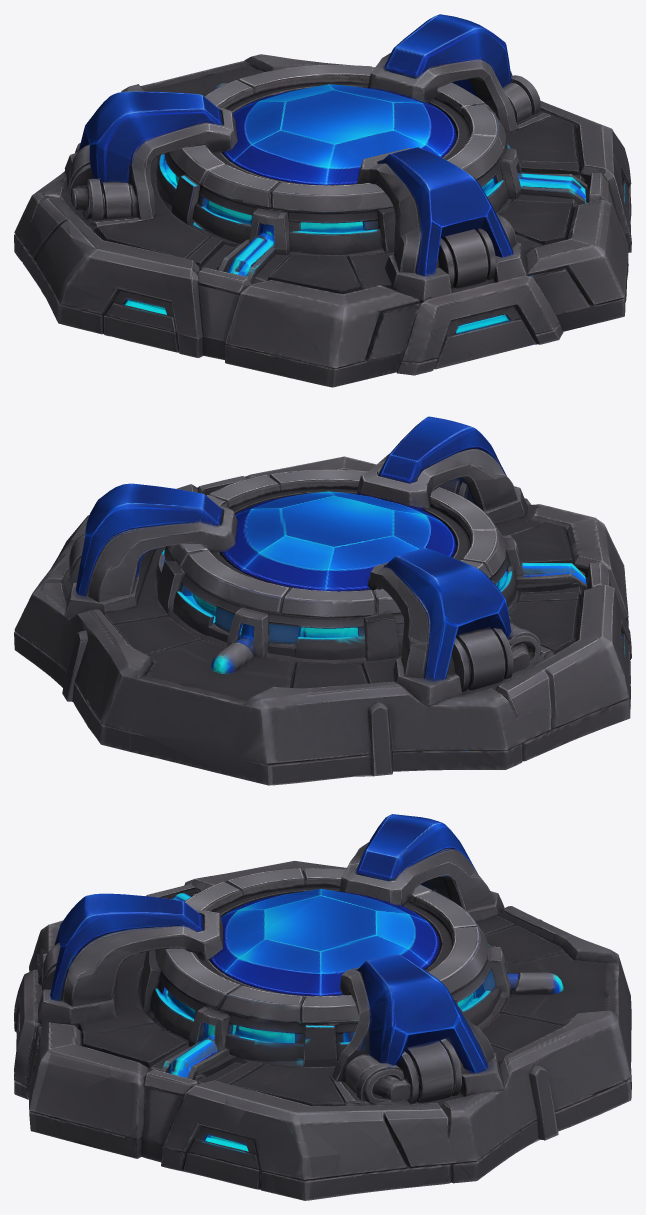
File: blue-inhibitor.glb
3 views of the same model, one above another, from view 1: azimuth 30°, elevation 25°; view 2: azimuth 150°, elevation 25°; view 3: azimuth 270°, elevation 25° (orthographic). The views are drawn at different scales.
Visible parts, largest first — view 1: Mesh_0; view 2: Mesh_0; view 3: Mesh_0.
Part boxes in pixels (box(x1,y1,x2,y2)): Mesh_0: box(14, 14, 631, 387); Mesh_0: box(14, 416, 631, 785); Mesh_0: box(14, 814, 631, 1200).
Bounding box in the file's own units: 11.66 × 3 × 10.67.
Materials: 1 (1 with a texture image).
